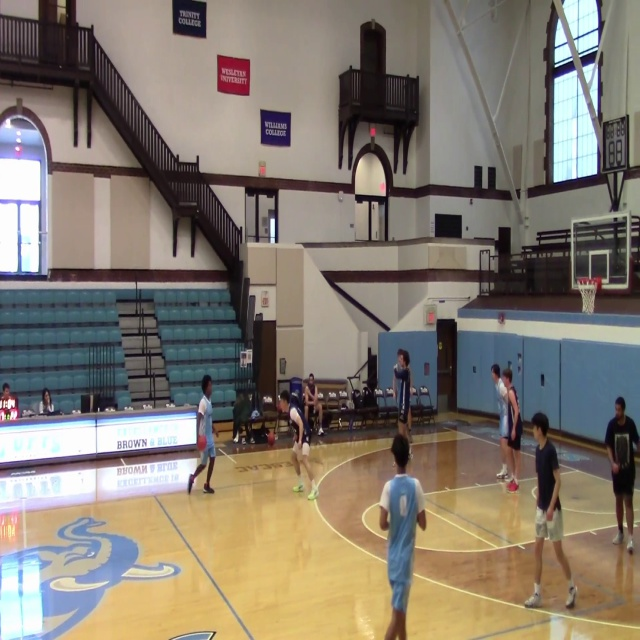Basketball: (196, 435, 207, 451), (267, 433, 276, 446)
